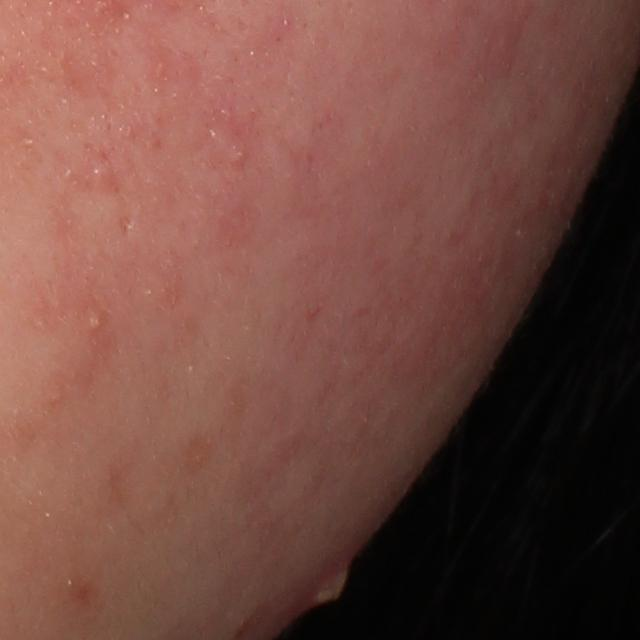atrophic_scar: (116, 208, 136, 234)
pustule: (312, 560, 352, 609), (83, 307, 101, 333)
